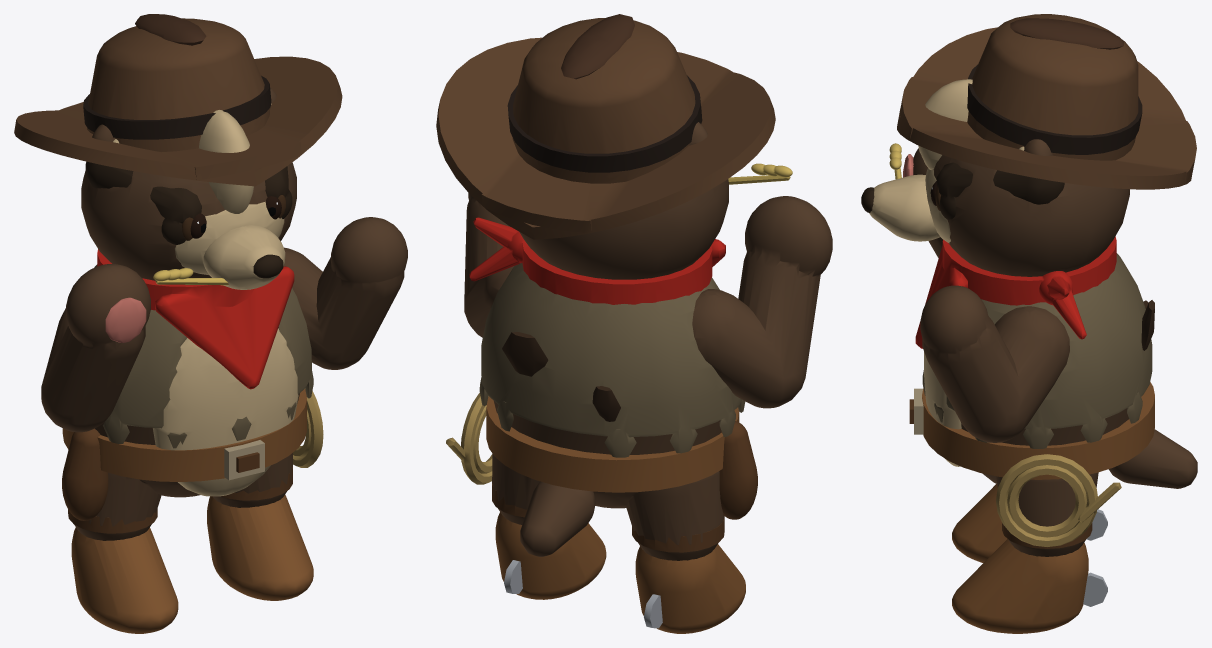
File: dustcub.glb
3 views of the same model, side by side, from view 1: azimuth 30°, elevation 25°; view 2: azimuth 150°, elevation 25°; view 3: azimuth 270°, elevation 25° (orthographic). The views are drawn at different scales.
Parts seen in each view (by area): view 1: creature; view 2: creature; view 3: creature.
Part boxes in pixels (x1,y1,x2,y2): creature: [14, 14, 407, 633]; creature: [436, 14, 832, 633]; creature: [861, 14, 1197, 633].
Size of the model in its own units: 0.6215 by 1 by 0.5323.
